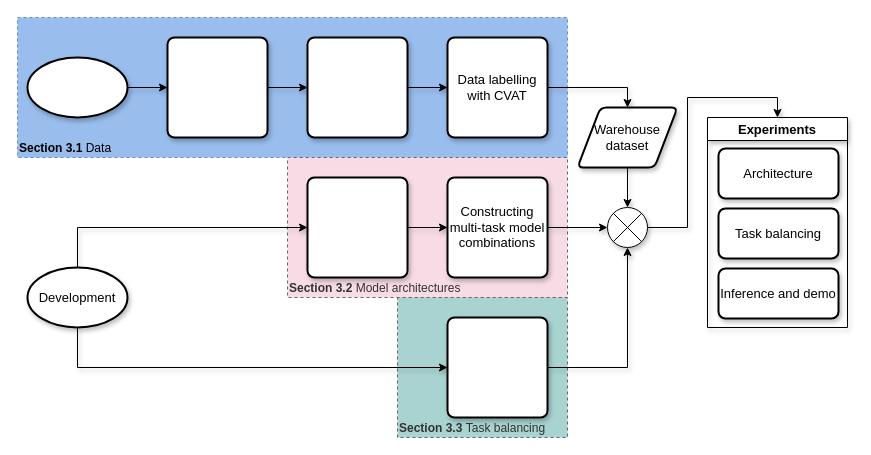
Image size: 871x455. Some labels were removed from this diagram. The shapes that lost their labels are listed below. From the top down, each one's centre as x and y in pixels, then its label:
At (78,88): "Data collection".
At (218,88): "Sub-sampling dataset using SSIM metric".
At (358,88): "Task definition".
At (358,228): "Baseline models from torchvision".
At (498,368): "Exploring task-balancing approaches".
